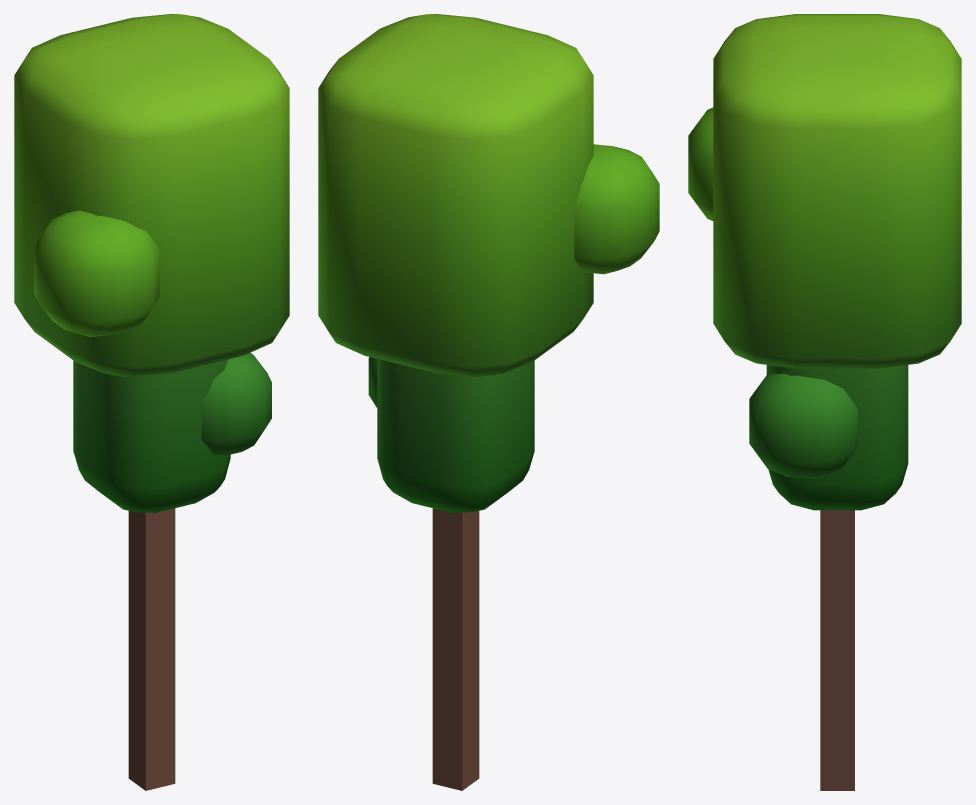
File: Tree2.fbx
3 renders of one model, left to right at view 1: azimuth 30°, elevation 25°; view 2: azimuth 150°, elevation 25°; view 3: azimuth 270°, elevation 25°, orthographic.
Parts seen in each view (by area): view 1: Tree1; view 2: Tree1; view 3: Tree1.
Boxes of the visible parts, box(x1,y1,x2,y2) form: Tree1: box(14, 14, 289, 790); Tree1: box(318, 14, 659, 790); Tree1: box(688, 14, 961, 790).
Size of the model in its own units: 1.26 by 3.45 by 1.16.
